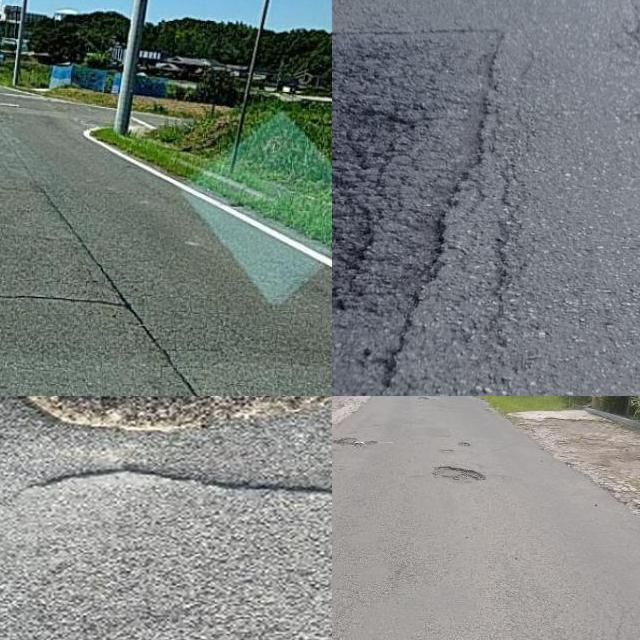Lubang: (32, 396, 332, 436), (434, 466, 480, 489)
Melintang: (0, 279, 124, 320)
Memanjang: (5, 160, 215, 396)
Retak Buaya: (332, 46, 431, 310)
